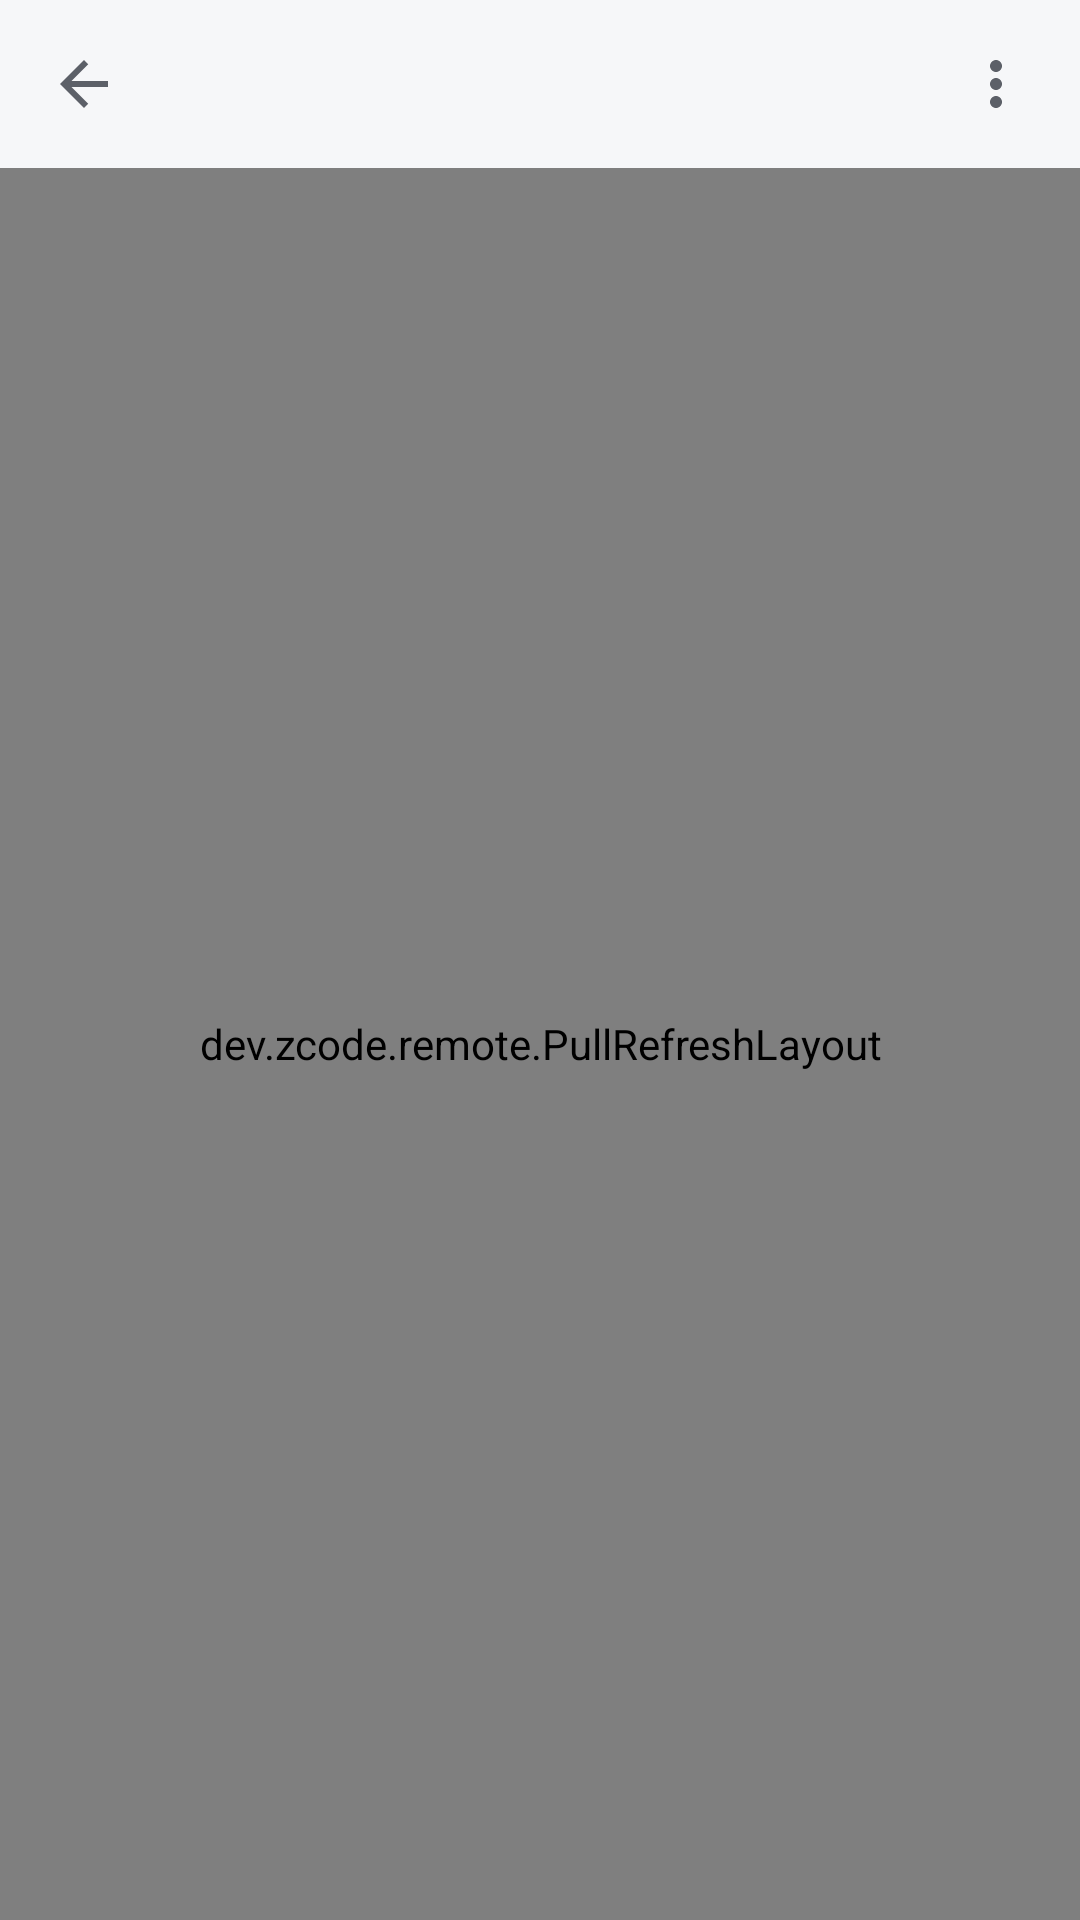

Where to tap for icons on this 1080*1920 app screen, as [x,y]:
更多选项: [996,84]
返回: [84,84]
